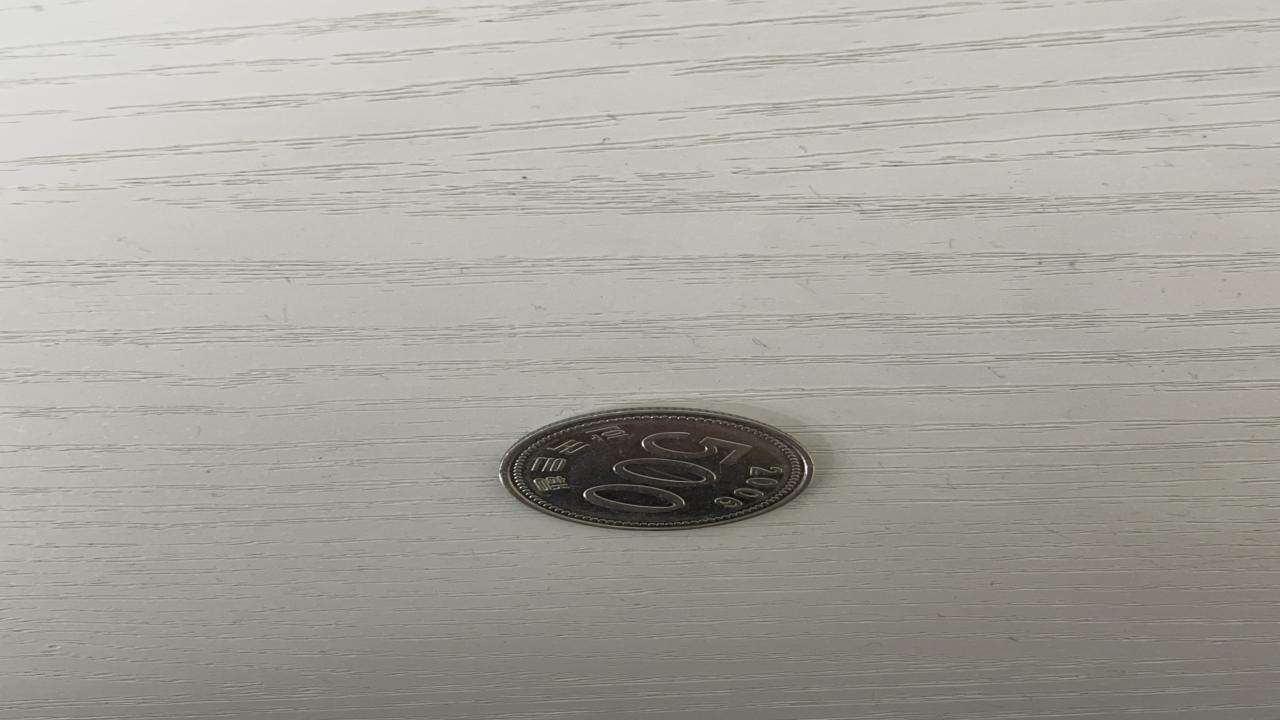coin: (500, 407, 816, 530)
